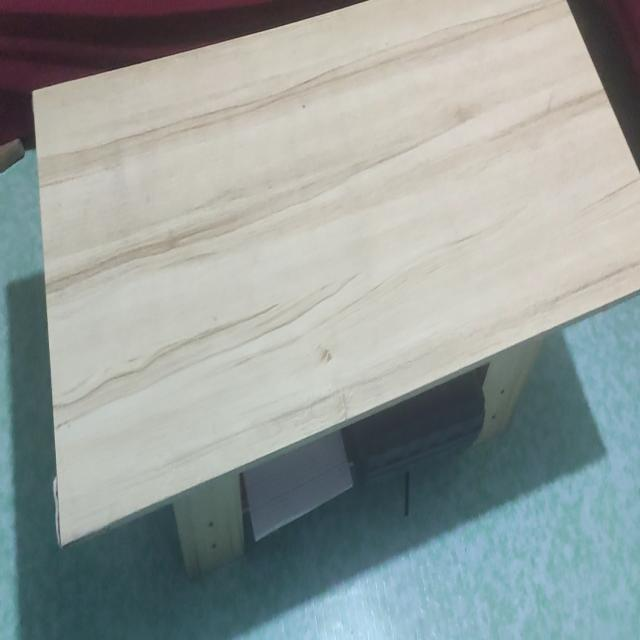table: (28, 0, 640, 572)
